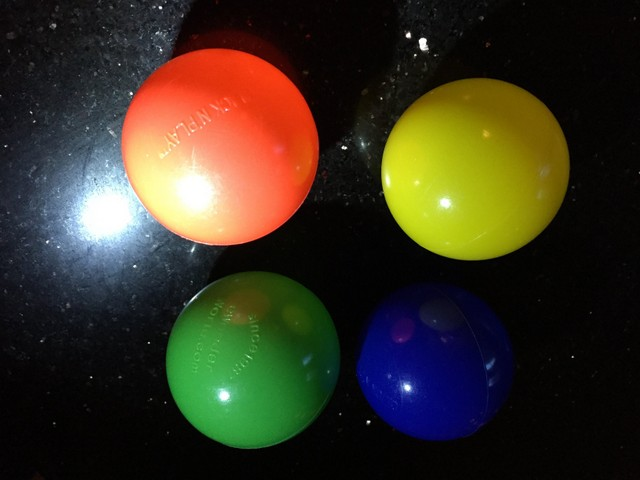Ball: (165, 272, 343, 444)
